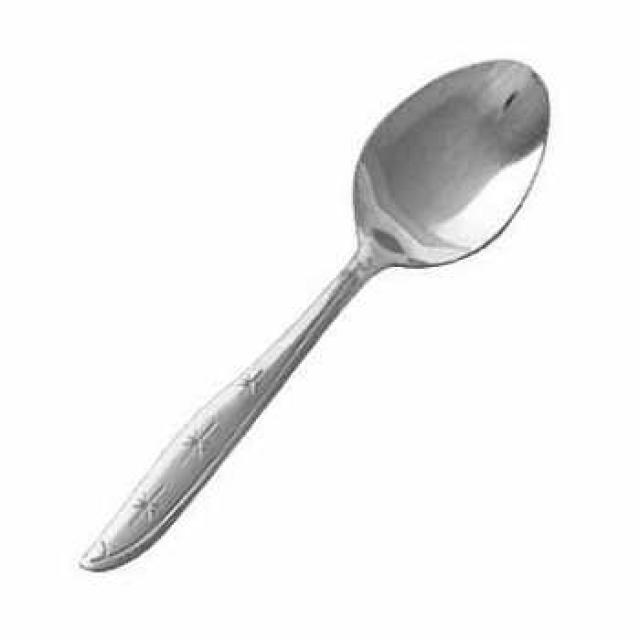spoon: (58, 52, 566, 588)
